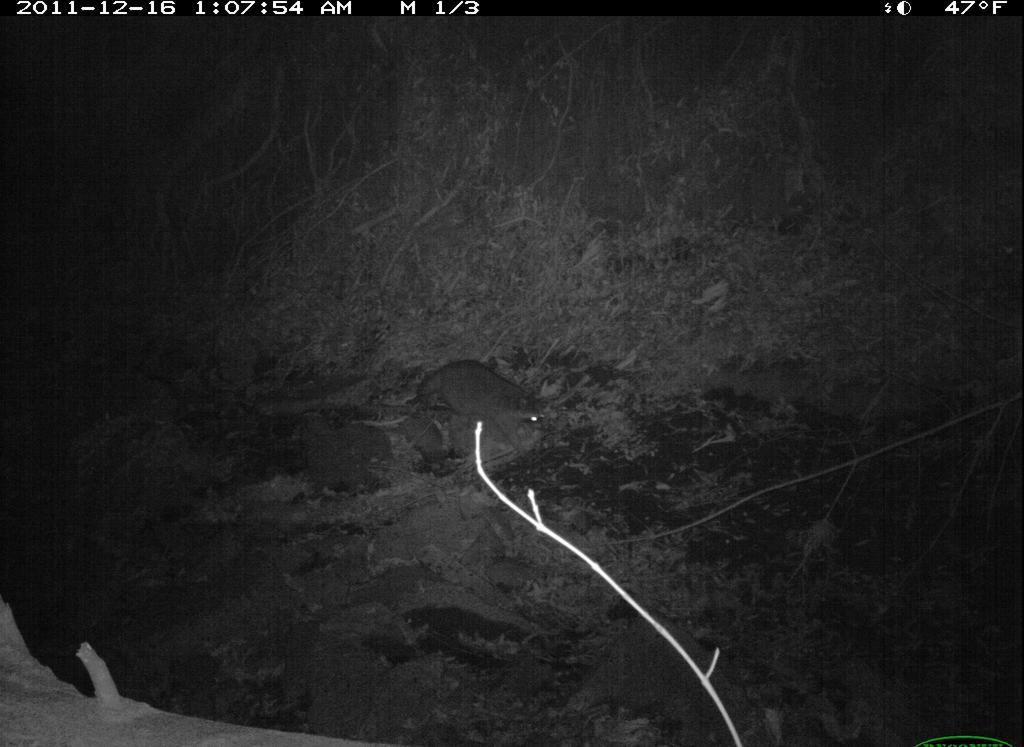raccoon: (373, 358, 559, 456)
